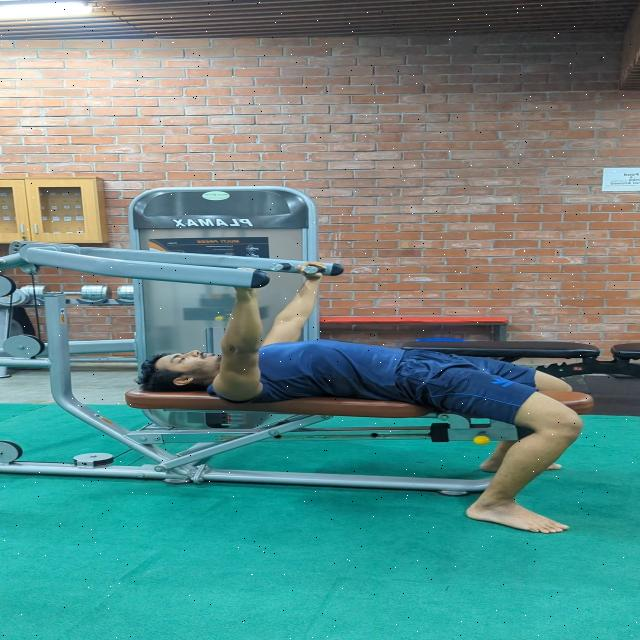Normal_BrenchPress: (125, 255, 602, 548)
